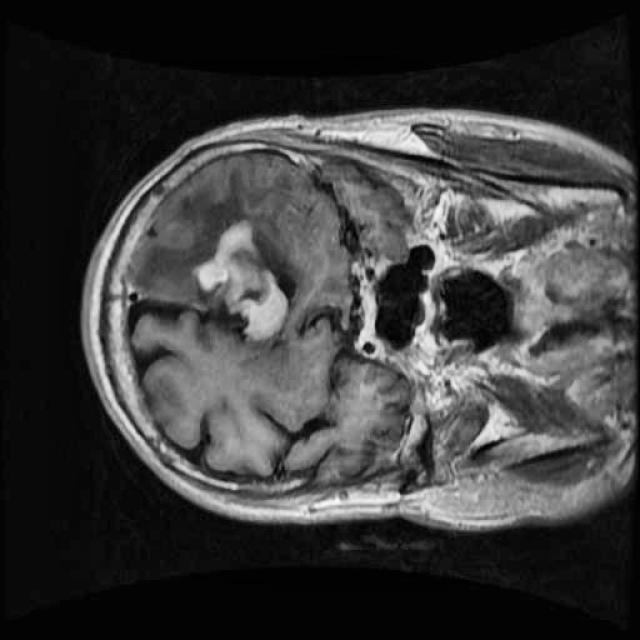Tumor: (136, 167, 306, 355)
